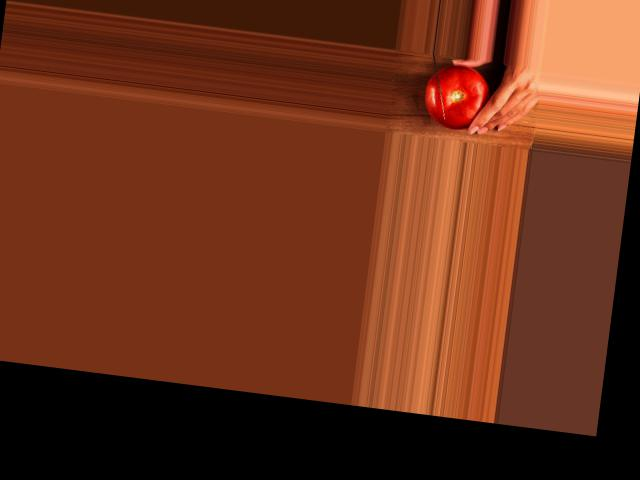tomato: (422, 61, 493, 132)
